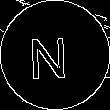N_N: (34, 29, 76, 81)
